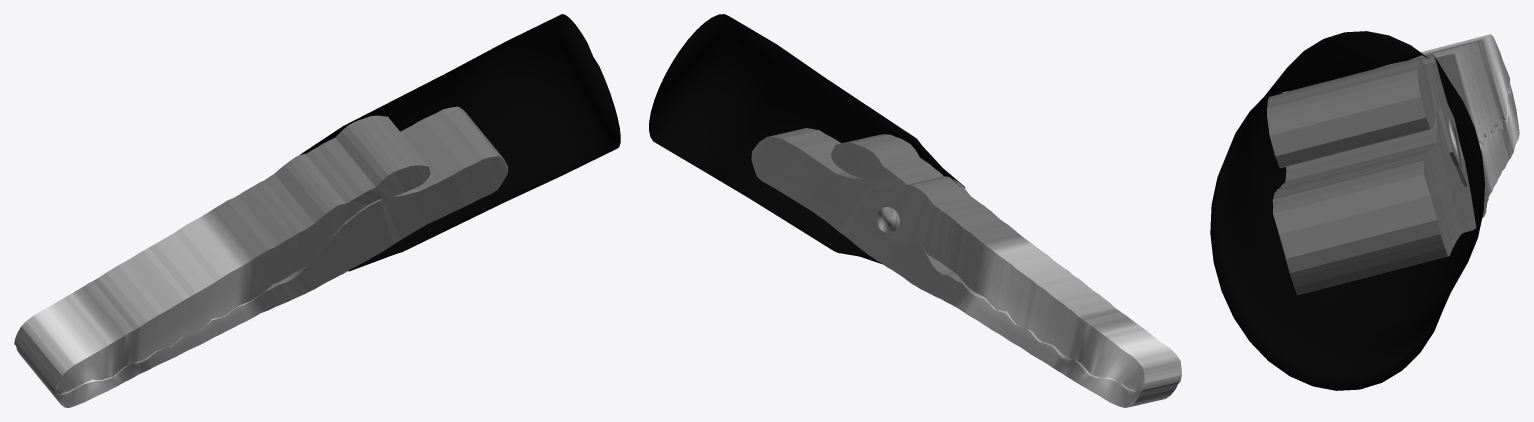
Rendered from Pinzas_cocodrilo_N_lab3.fbx.
3 views of the same model, side by side, from view 1: azimuth 30°, elevation 25°; view 2: azimuth 150°, elevation 25°; view 3: azimuth 270°, elevation 25° (orthographic). The views are drawn at different scales.
Visible parts, largest first — view 1: Plane.002, Circle, Plane.001; view 2: Plane.002, Circle, Plane.001, Cylinder; view 3: Circle, Plane.001, Plane.002, Cylinder.
Boxes of the visible parts, x1,y1,x2,y2 form: Plane.002: (14, 115, 430, 394); Circle: (300, 14, 620, 271); Plane.001: (16, 106, 508, 407); Plane.002: (831, 134, 1181, 391); Circle: (649, 14, 964, 264); Plane.001: (751, 128, 1177, 407); Cylinder: (876, 207, 899, 232); Circle: (1210, 31, 1484, 390); Plane.001: (1272, 84, 1519, 294); Plane.002: (1267, 34, 1509, 186); Cylinder: (1448, 119, 1463, 169).
Bounding box in the file's own units: 495 × 240 × 128.
